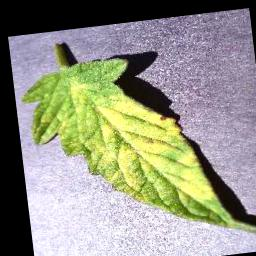Leaf_Mold: (18, 46, 233, 256)
